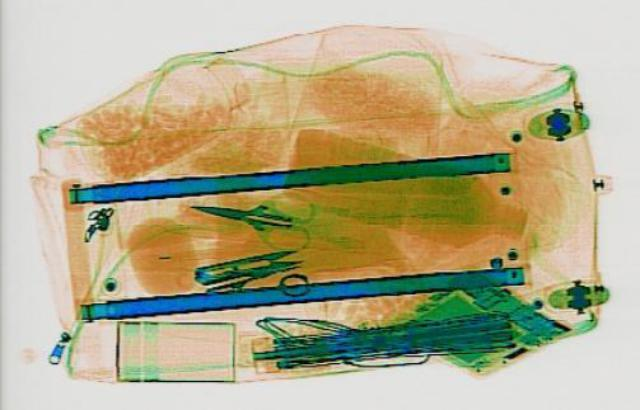Knife: (183, 192, 294, 232), (193, 255, 303, 295)
Scissors: (184, 243, 306, 284)
